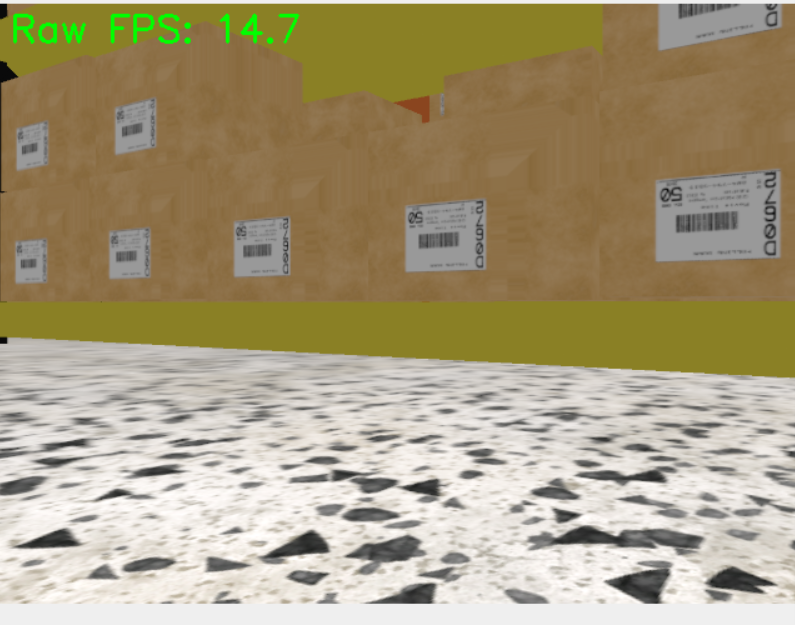barcode: (654, 168, 781, 261), (404, 200, 488, 271), (231, 216, 290, 277), (114, 96, 159, 154), (107, 229, 151, 278), (16, 121, 48, 170), (15, 239, 48, 285)
